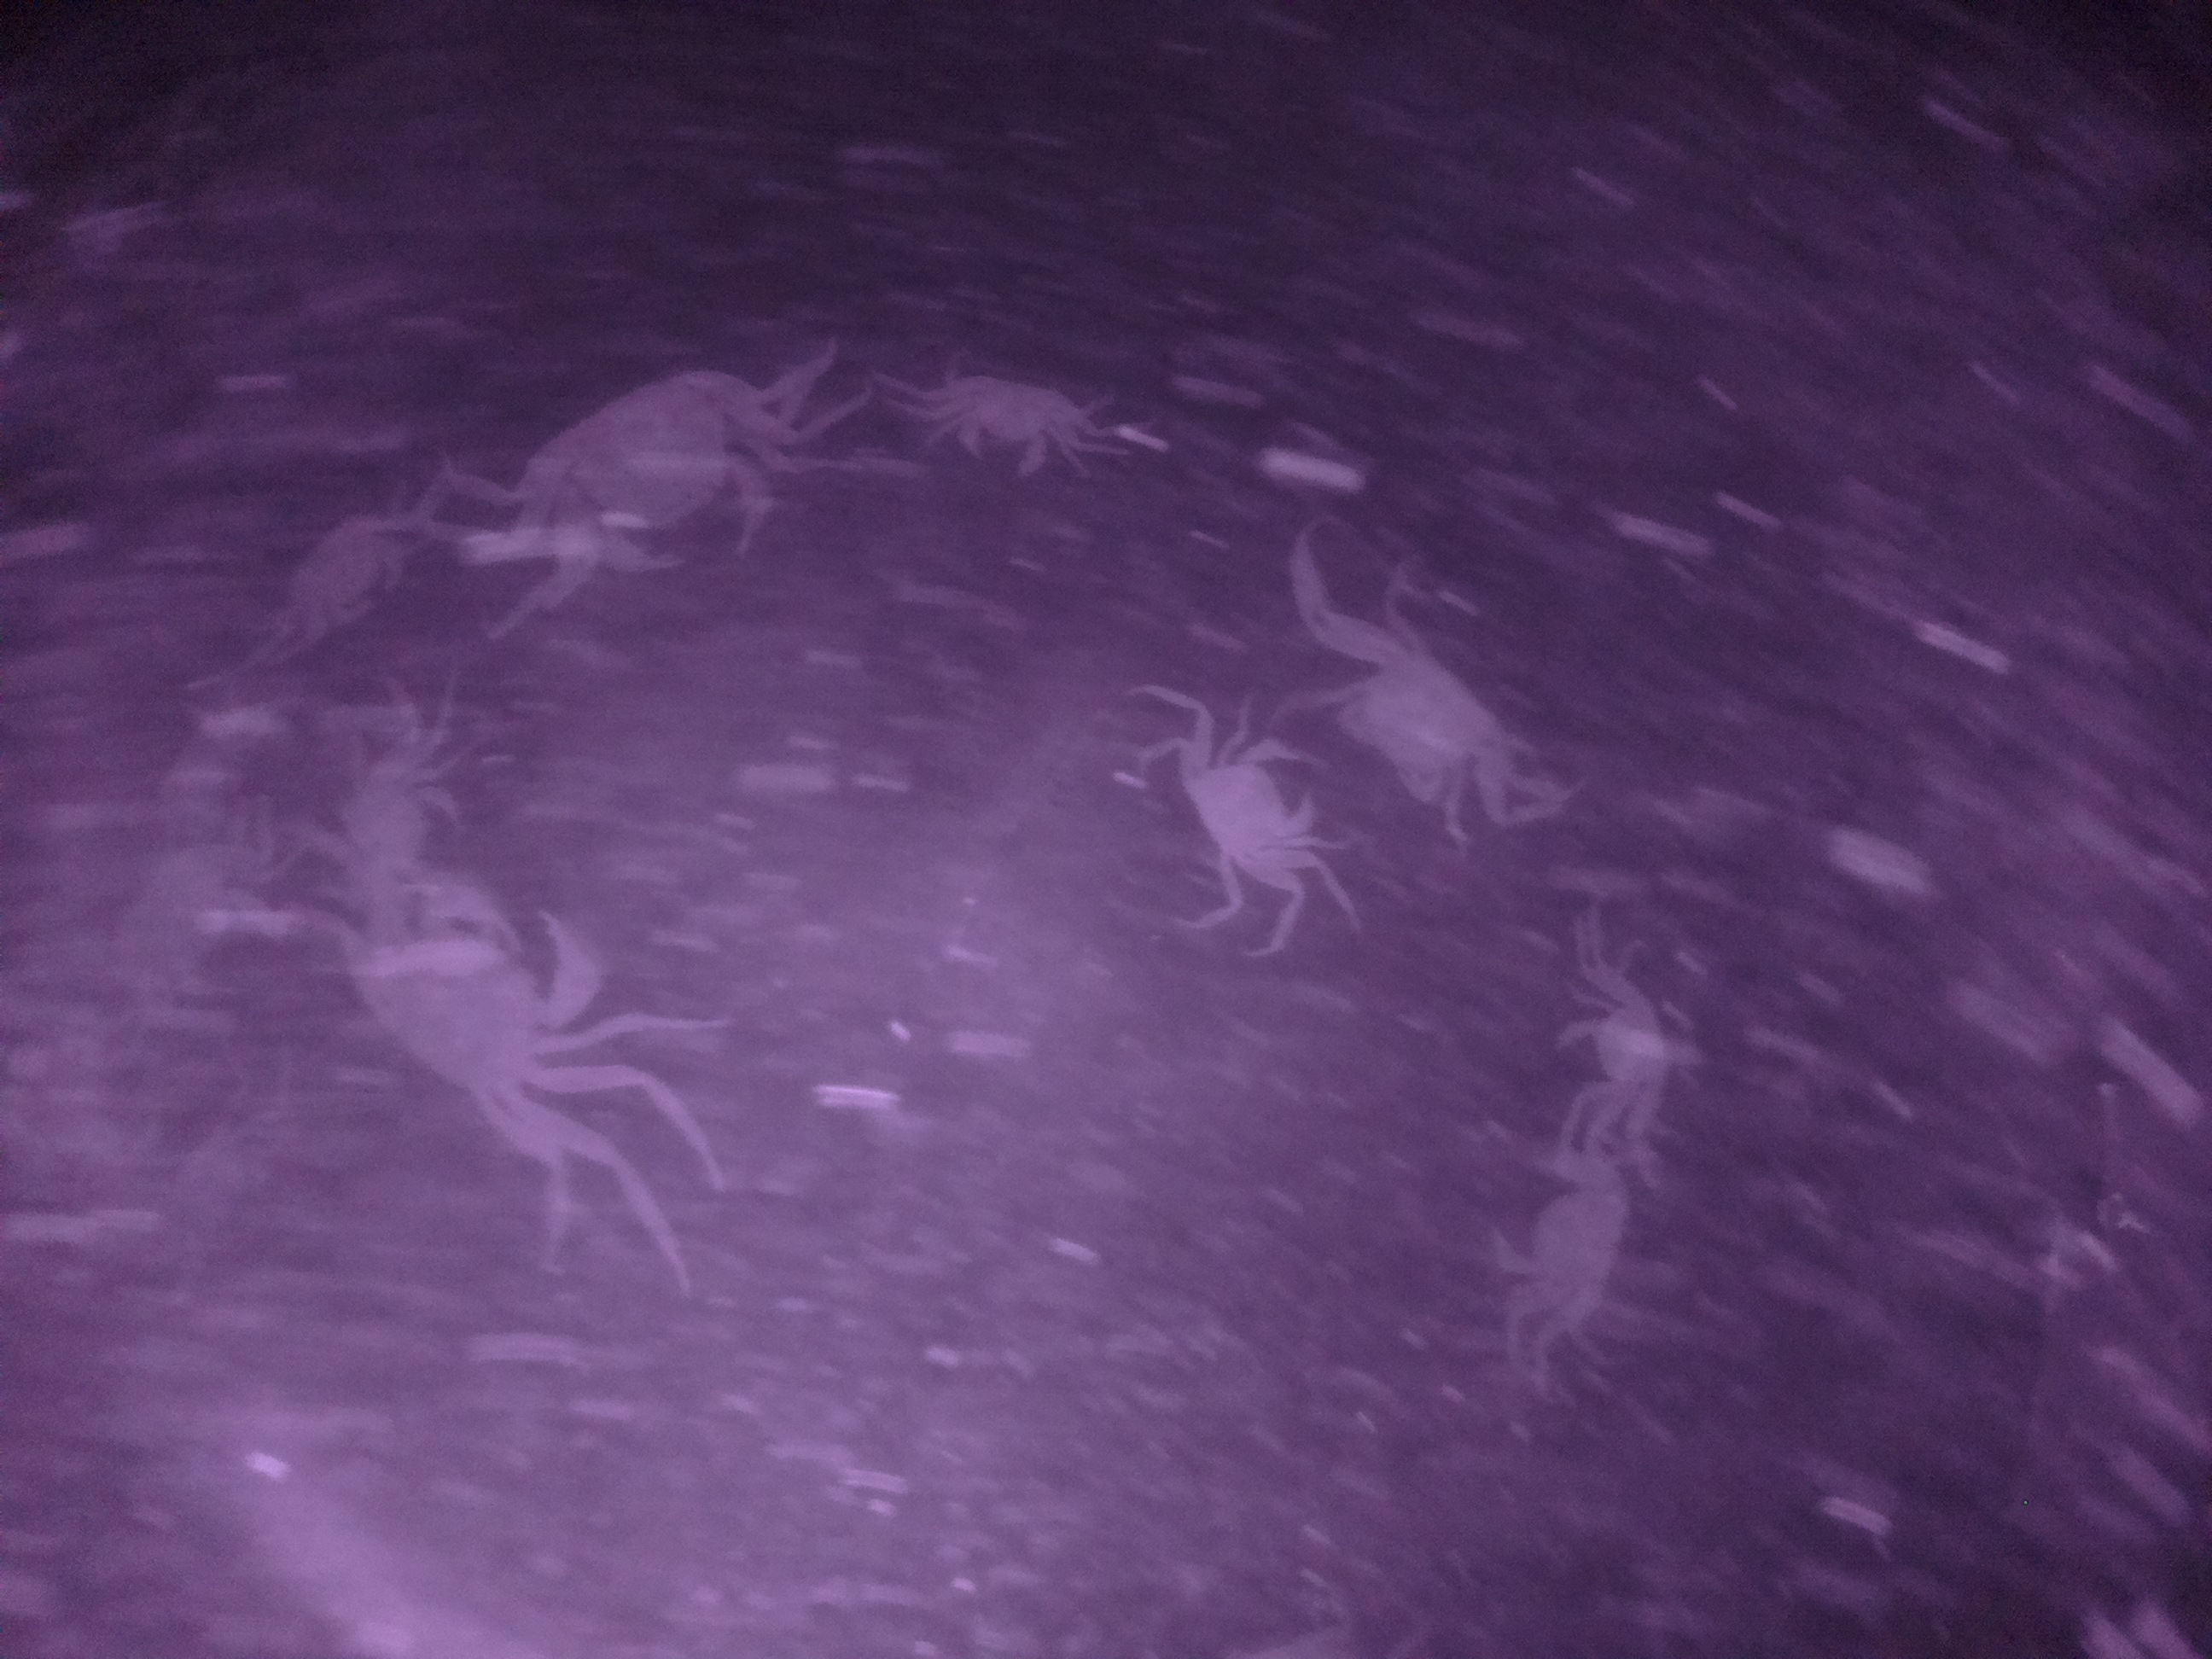Crab: (519, 345, 810, 591), (1170, 720, 1332, 894), (928, 359, 1080, 486)
